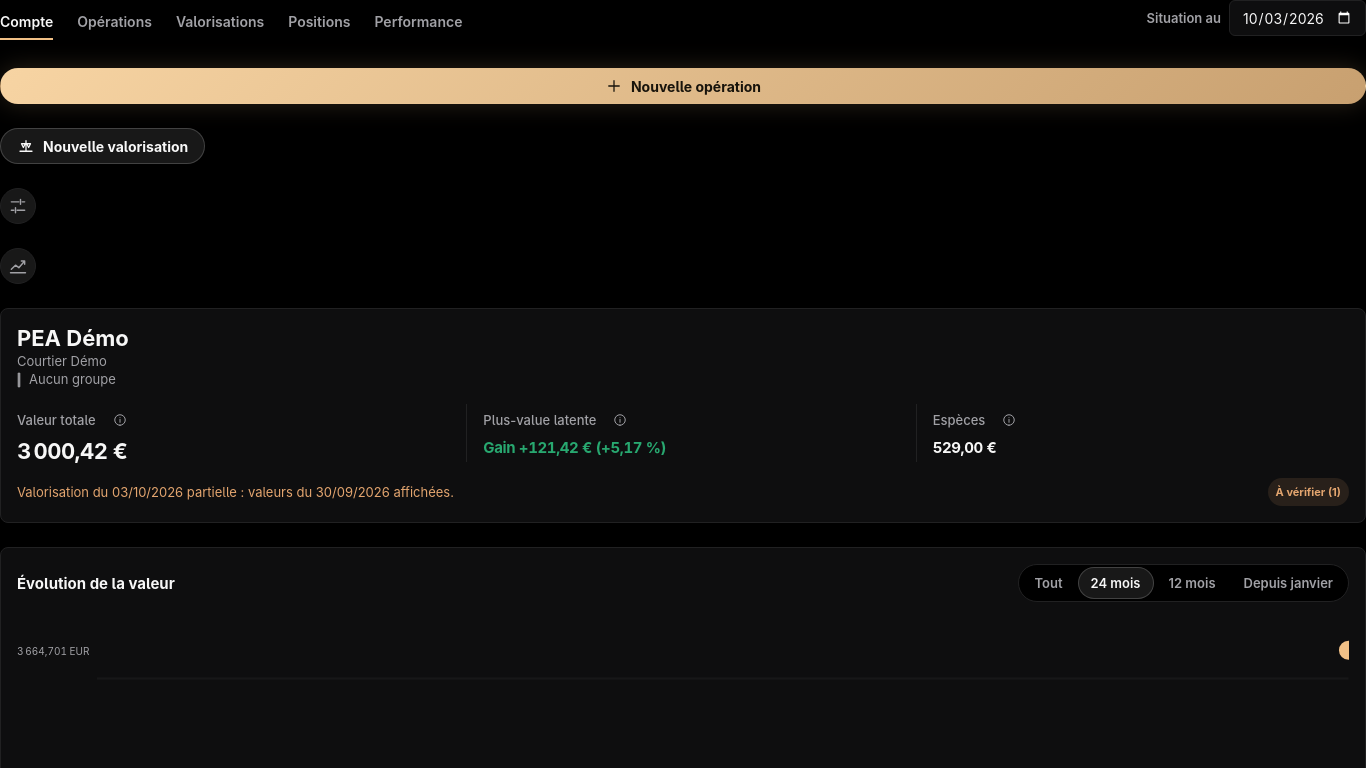
PortfolioAccountPage › keeps dated complete values while explicitly warning about a newer partial valuation
This screenshot has width=1366, height=768.
Expected: the text "Valorisation du 03/10/2026 partielle : valeurs du 30/09/2026 affichées." is shown, [17,484,454,500]
Expected: the text "Gain +121,42 € (+5,17 %)" is shown, [483,440,666,456]
Click the button named "Expliquer : Valeur totale" at (120, 420), box [104,404,136,436]
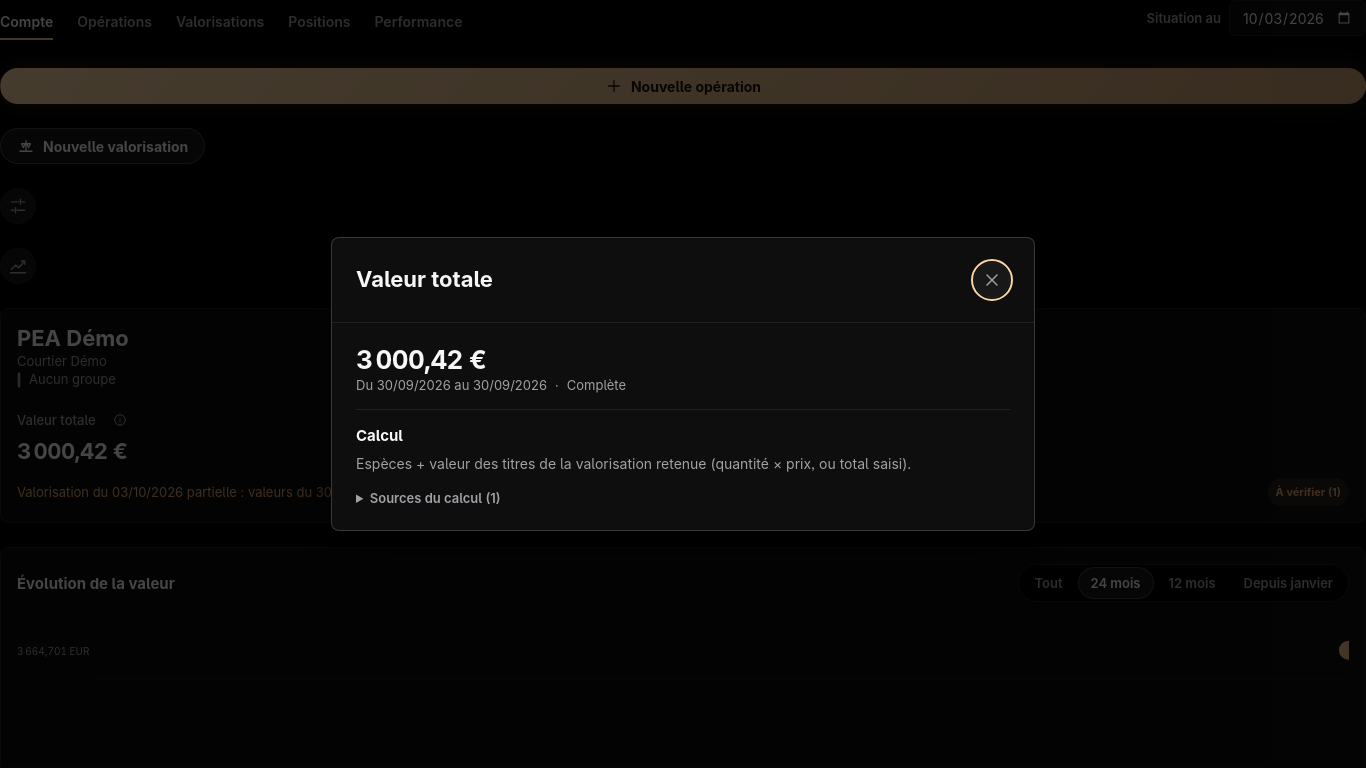
Result: the text "Du 30/09/2026 au 30/09/2026" is shown at [356,377,547,393]
